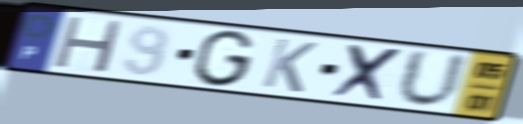9: (121, 23, 175, 78)
G: (190, 28, 258, 89)
H: (50, 13, 128, 75)
K: (258, 36, 321, 95)
U: (394, 46, 472, 111)
X: (328, 42, 407, 106)
